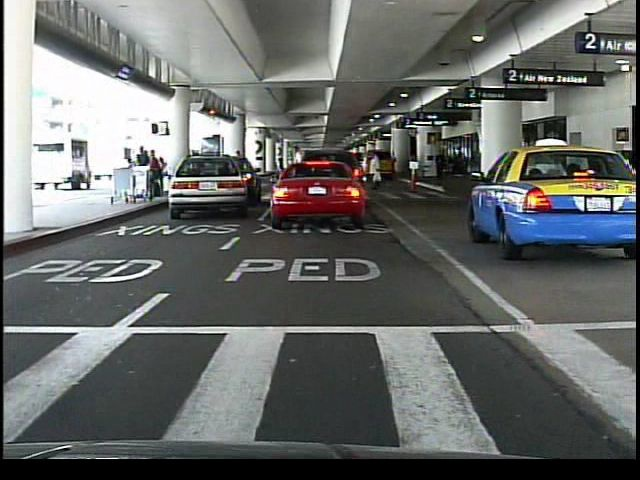person: (232, 147, 249, 200), (289, 149, 304, 203), (141, 147, 156, 199), (271, 159, 287, 204), (369, 150, 384, 189), (434, 151, 448, 186)
